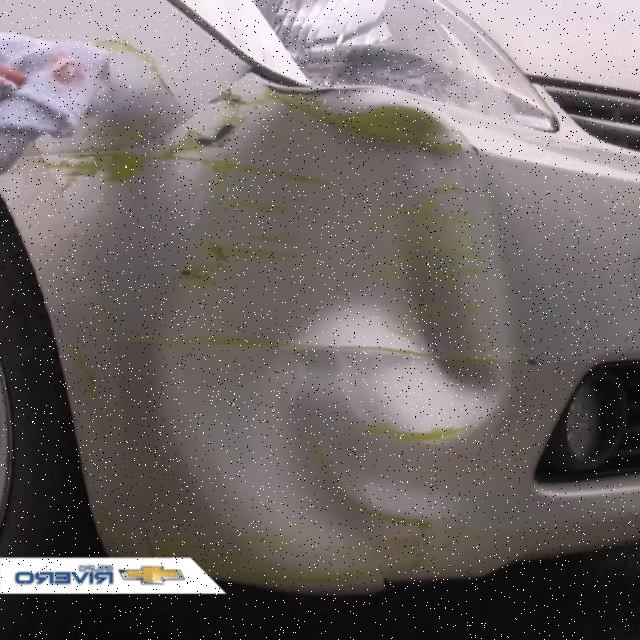damage: (161, 91, 516, 566), (281, 95, 463, 151), (96, 38, 178, 109), (43, 148, 155, 181), (169, 118, 239, 156), (213, 84, 247, 106)
